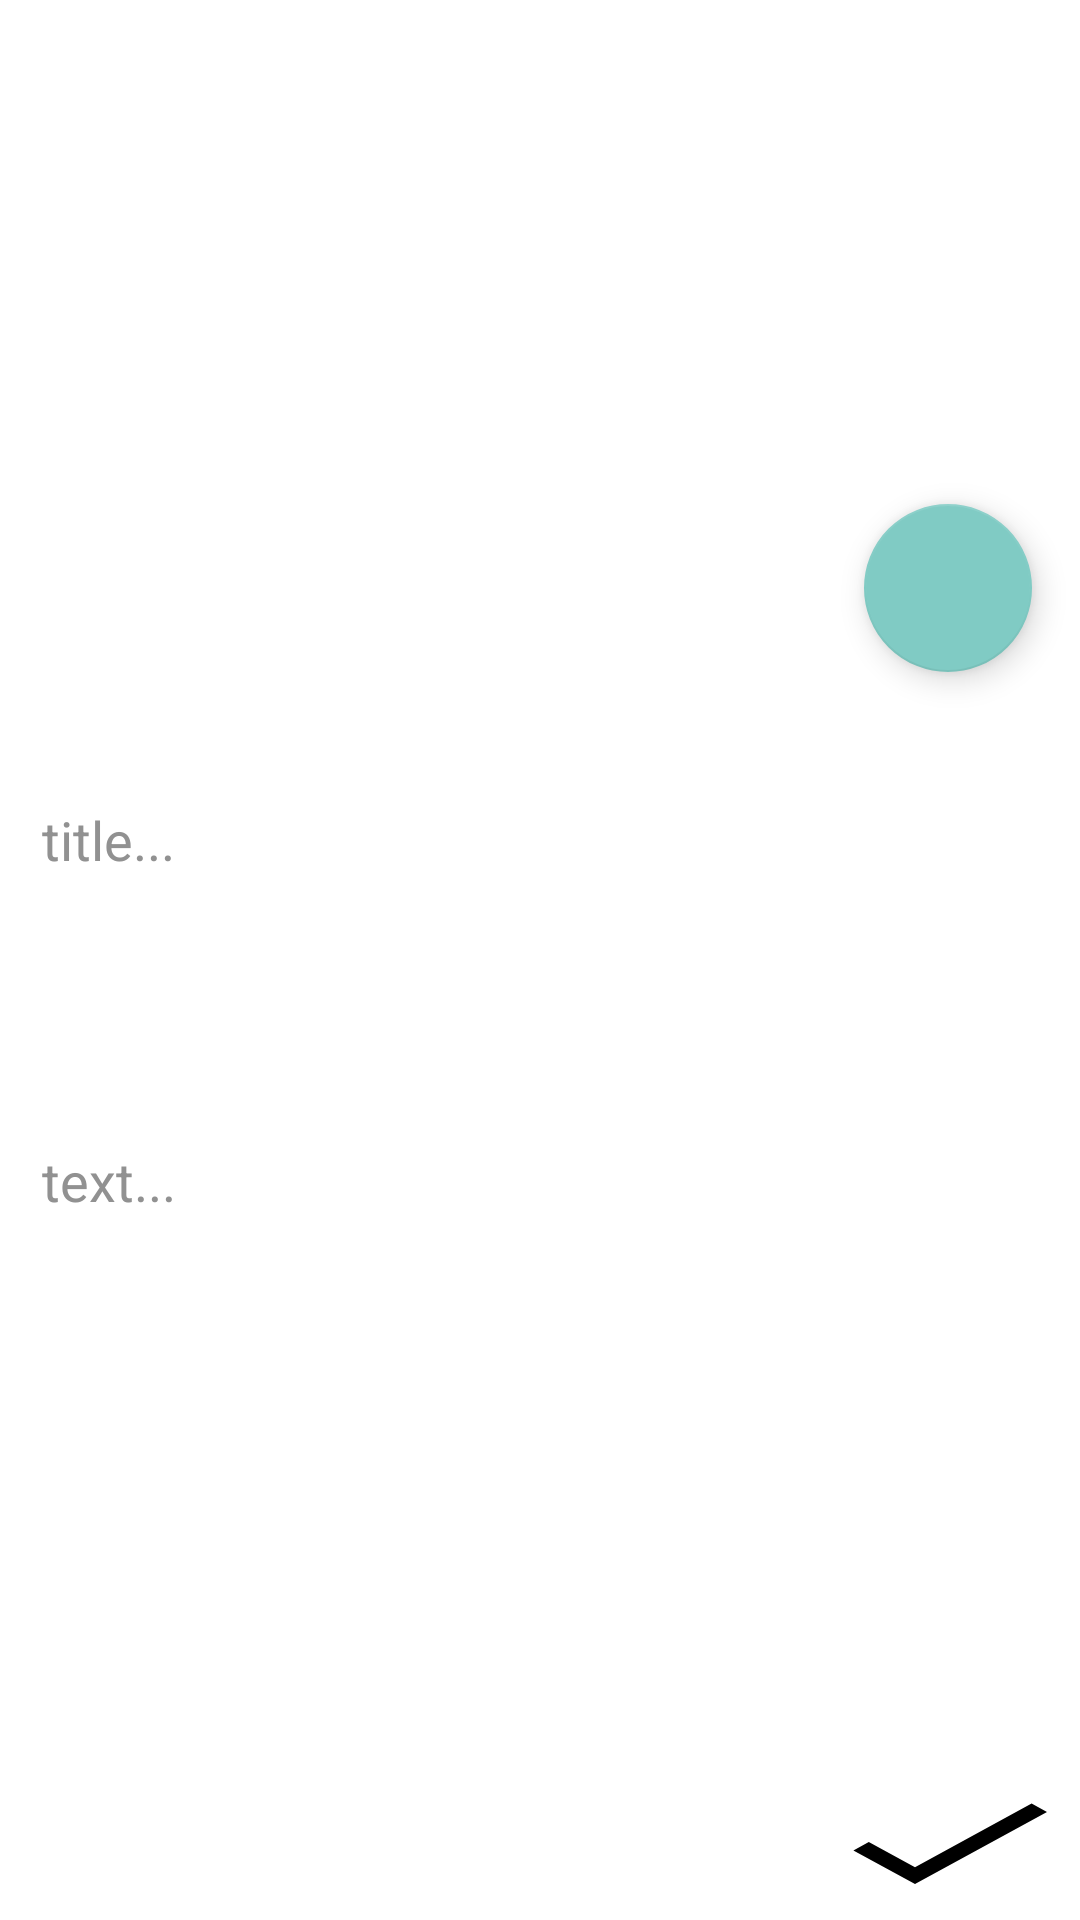

Point at icon controls on the screen. Image size 1080 × 1920, points as [x,y].
done: [950,1843]
